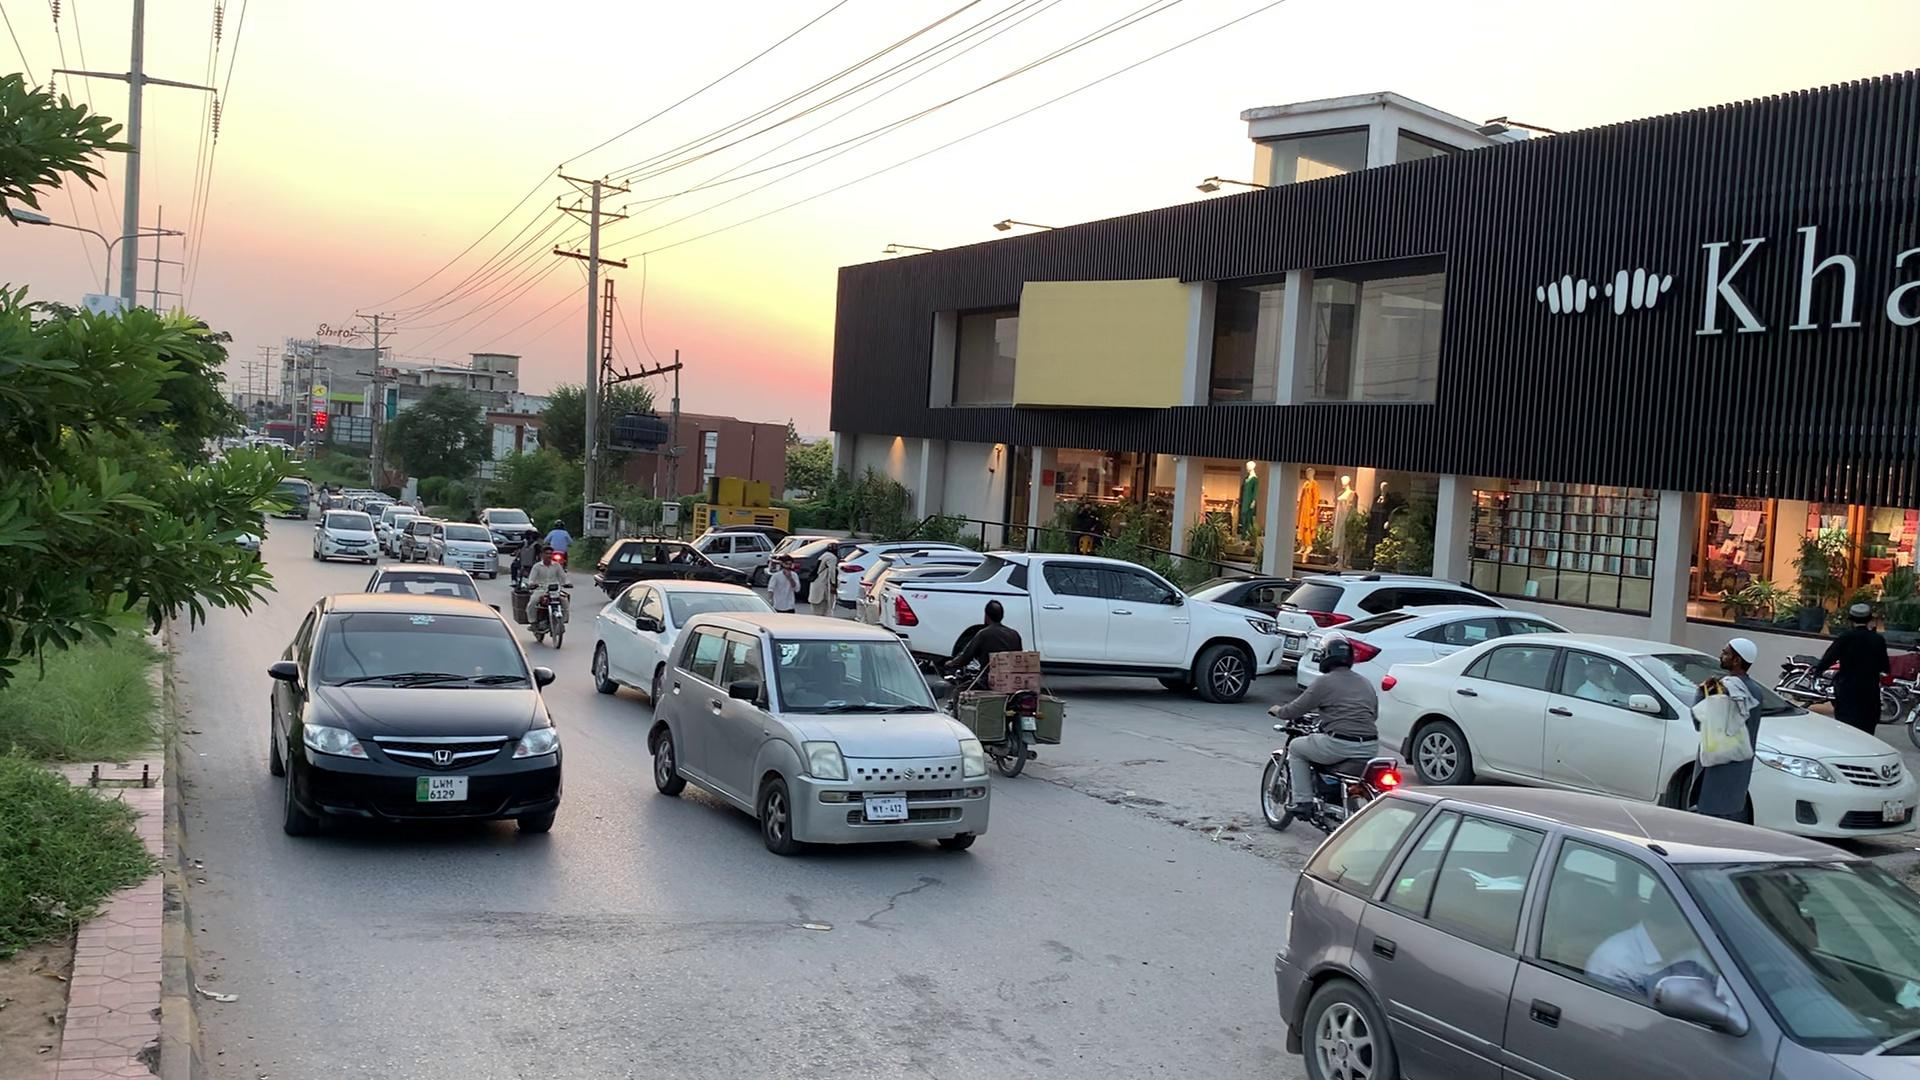windshield: (302, 603, 541, 698), (769, 630, 936, 716)
